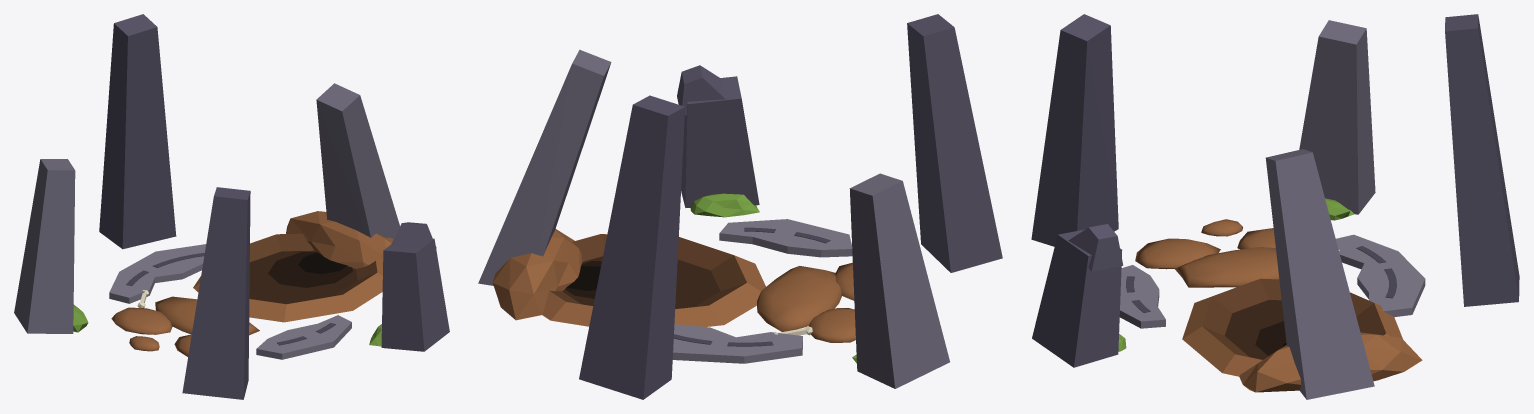
Rendered from prop-spawn-stones.glb.
3 views of the same model, side by side, from view 1: azimuth 30°, elevation 25°; view 2: azimuth 150°, elevation 25°; view 3: azimuth 270°, elevation 25° (orthographic). The views are drawn at different scales.
Visible parts, largest first — view 1: SpawnStones; view 2: SpawnStones; view 3: SpawnStones.
Boxes of the visible parts, <box> form: SpawnStones: <box>14,14,449,399</box>; SpawnStones: <box>478,14,1002,399</box>; SpawnStones: <box>1031,14,1519,399</box>.
Size of the model in its own units: 3.89 by 2.21 by 3.71.
